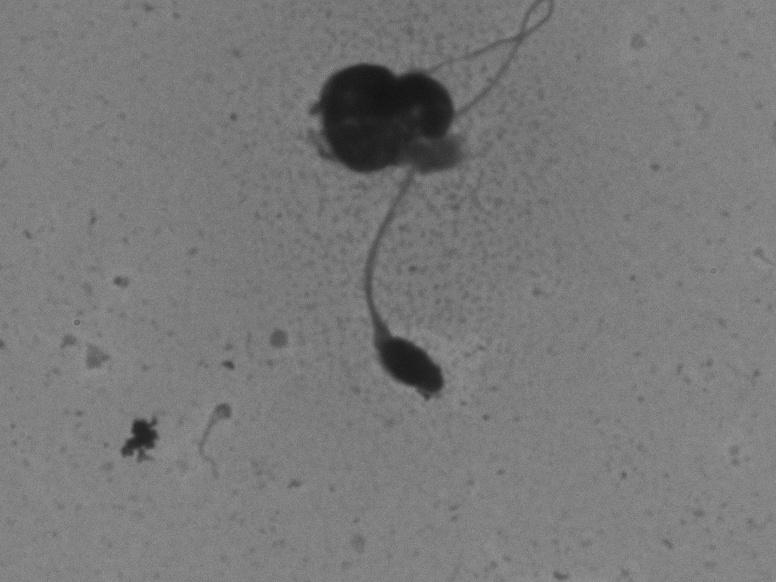Abnormal: (356, 6, 568, 412)
